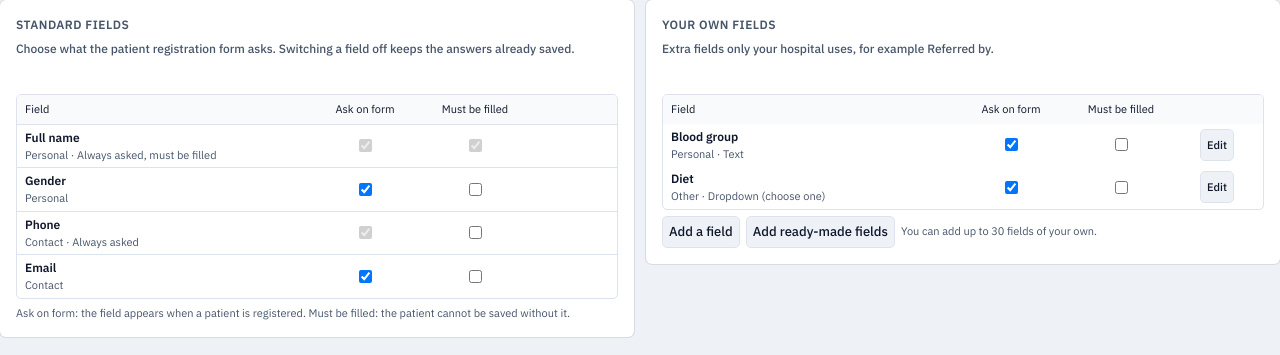
Test: standard fields › making a field required saves it and shows the answer of the API
The width and height of the screenshot is (1280, 355).
Click the checkbox named "Gender: Must be filled" at (475, 189), box x1=468 y1=183 x2=482 y2=196
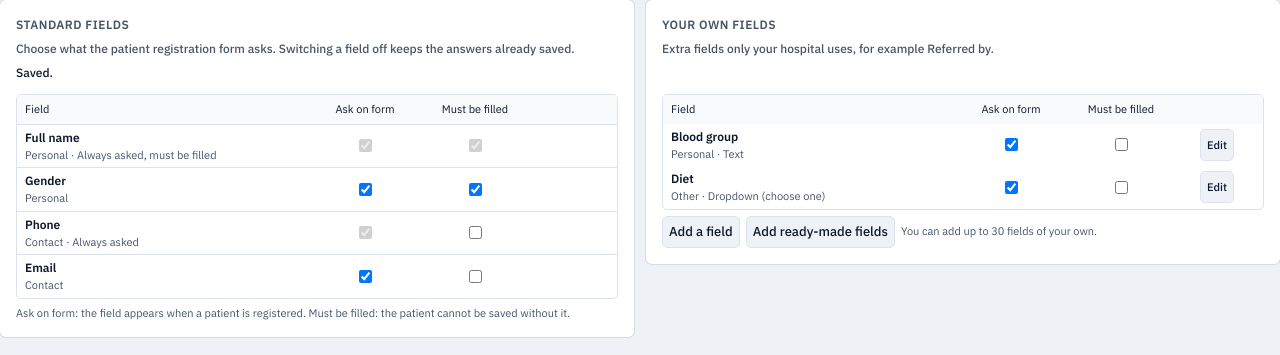
Now the message "Saved." is shown, box x1=16 y1=65 x2=53 y2=80
